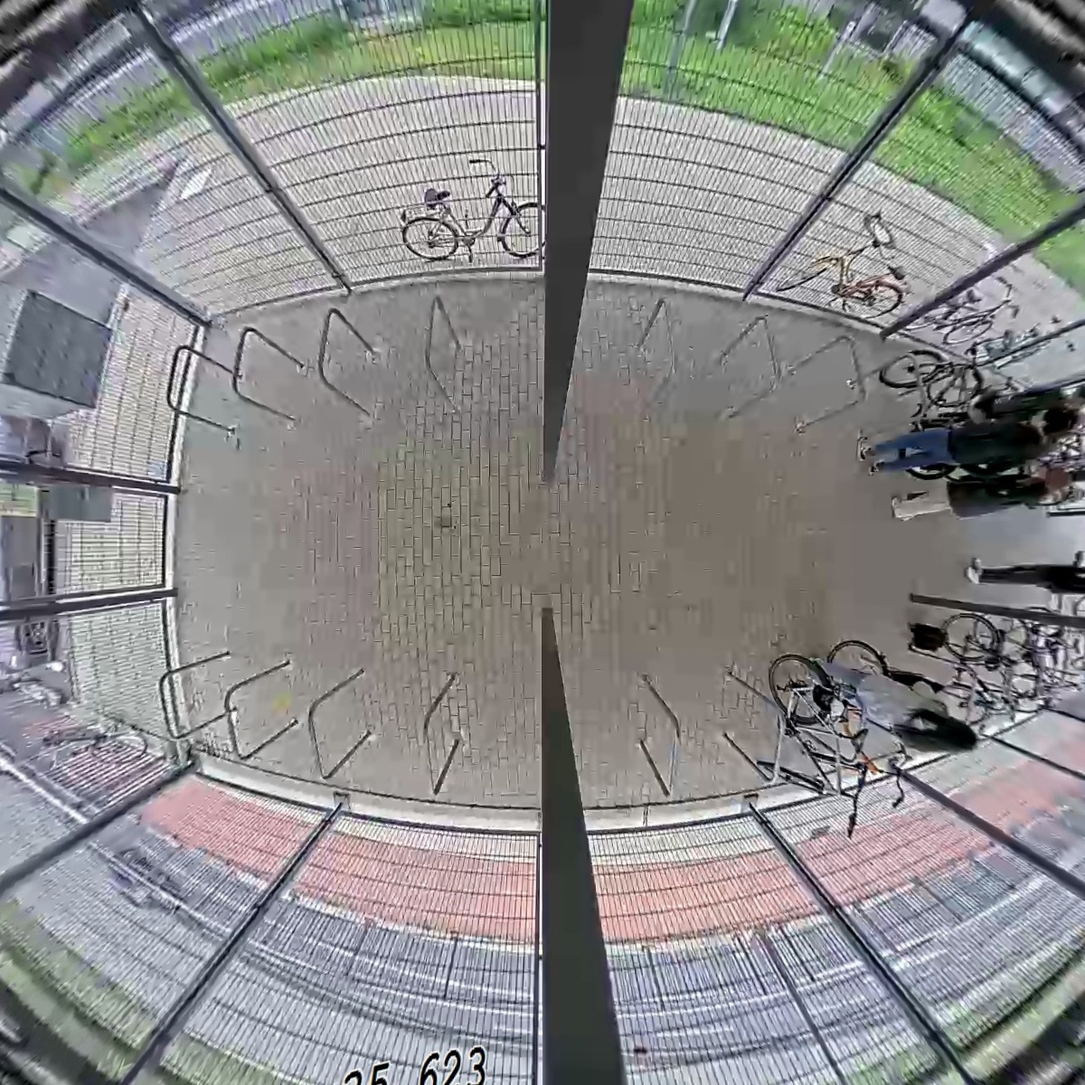bicylce: (875, 331, 992, 489), (763, 650, 853, 802), (928, 603, 1007, 746), (967, 609, 1036, 733)
saddle: (846, 724, 872, 758), (1044, 639, 1065, 669), (1027, 646, 1041, 670), (1072, 637, 1085, 657)
